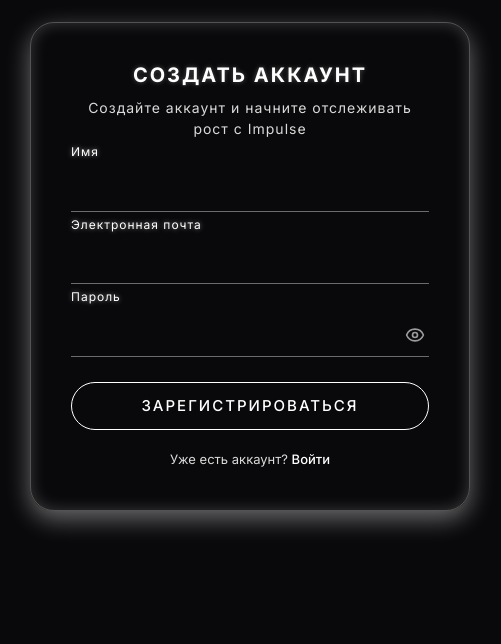
it: SignUp › shows error for short password
In the field labelled "Имя": x=250, y=188 71,164 -> 429,212, type "Ivan"
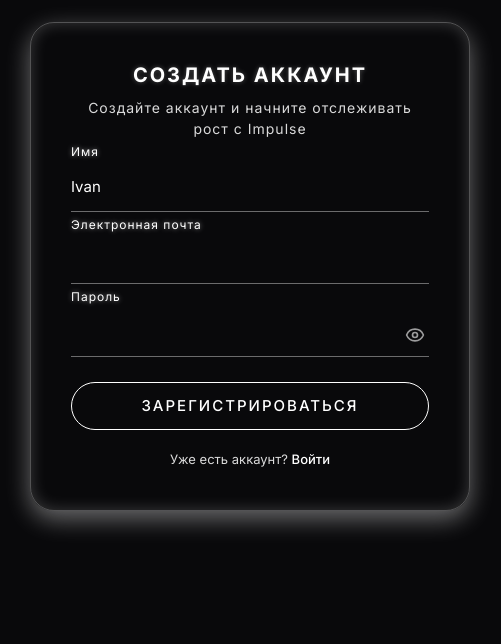
In the field labelled "Электронная почта": x=250, y=260 71,236 -> 429,284, type "user@example.com"
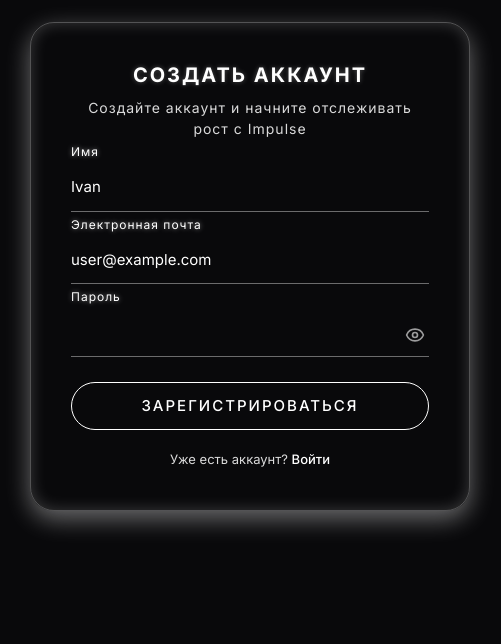
In the password field labelled "Пароль": x=250, y=333 71,309 -> 429,356, type "abc"
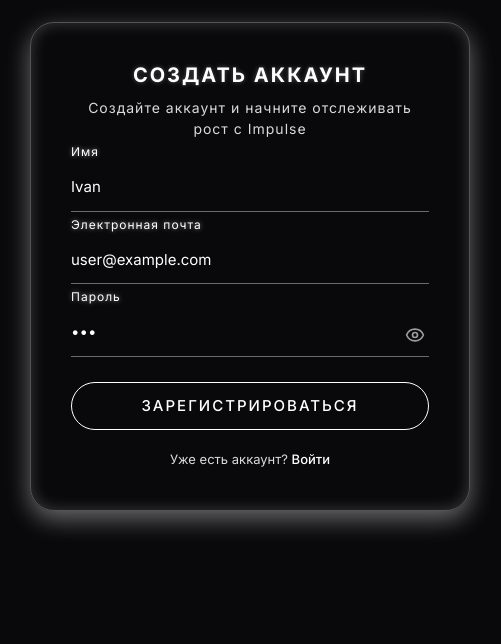
Submit the form labelled "Электронная почта", box 71,164 -> 429,430
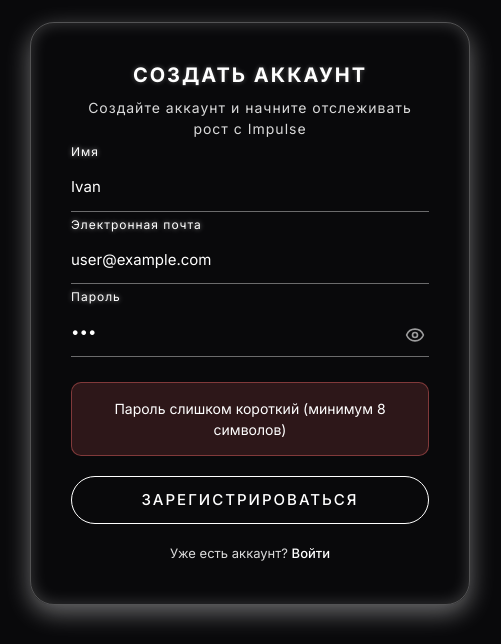
Now the text "Пароль слишком короткий (минимум 8 символов)" is shown, box 71,382 -> 429,456
